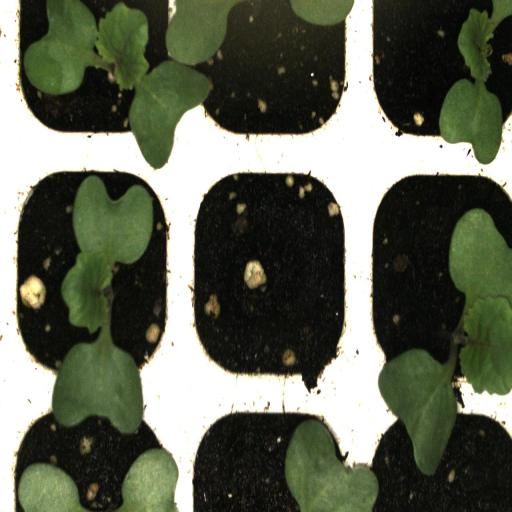Folha: (115, 448, 179, 512), (17, 462, 86, 512), (287, 0, 354, 28)
Germinacao: (5, 161, 182, 391), (356, 159, 512, 395), (6, 1, 180, 161), (356, 0, 512, 159)
